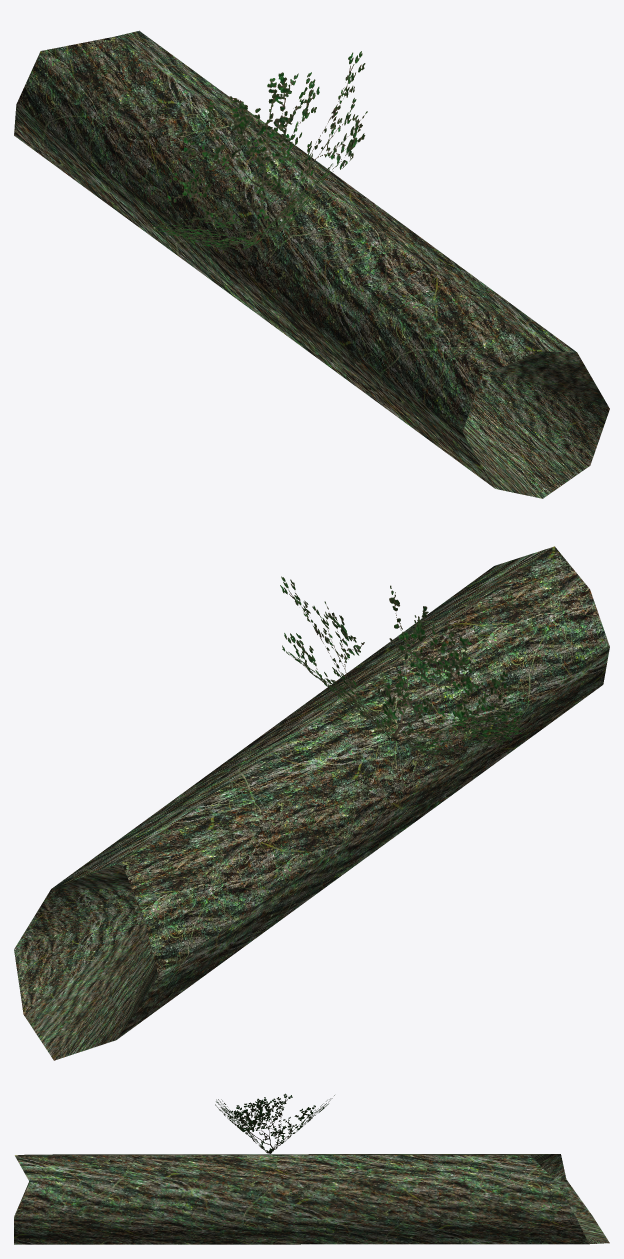
The model's file is decd_dath_overgrownbranch_l0.fbx.
The picture shows the model from 3 angles, top to bottom: view 1: azimuth 30°, elevation 25°; view 2: azimuth 150°, elevation 25°; view 3: azimuth 270°, elevation 25°; orthographic projection. The views are drawn at different scales.
Parts seen in each view (by area): view 1: mesh_node; view 2: mesh_node; view 3: mesh_node.
Boxes of the visible parts, <box> form: mesh_node: <box>14,30,609,498</box>; mesh_node: <box>14,546,609,1060</box>; mesh_node: <box>14,1093,609,1244</box>.
Size of the model in its own units: 2.78 by 2.86 by 9.21.
